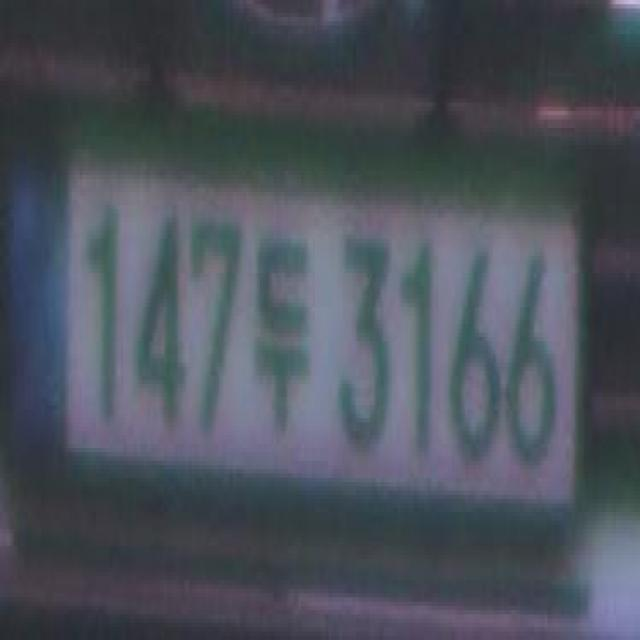illegal_plate: (3, 105, 601, 557)
